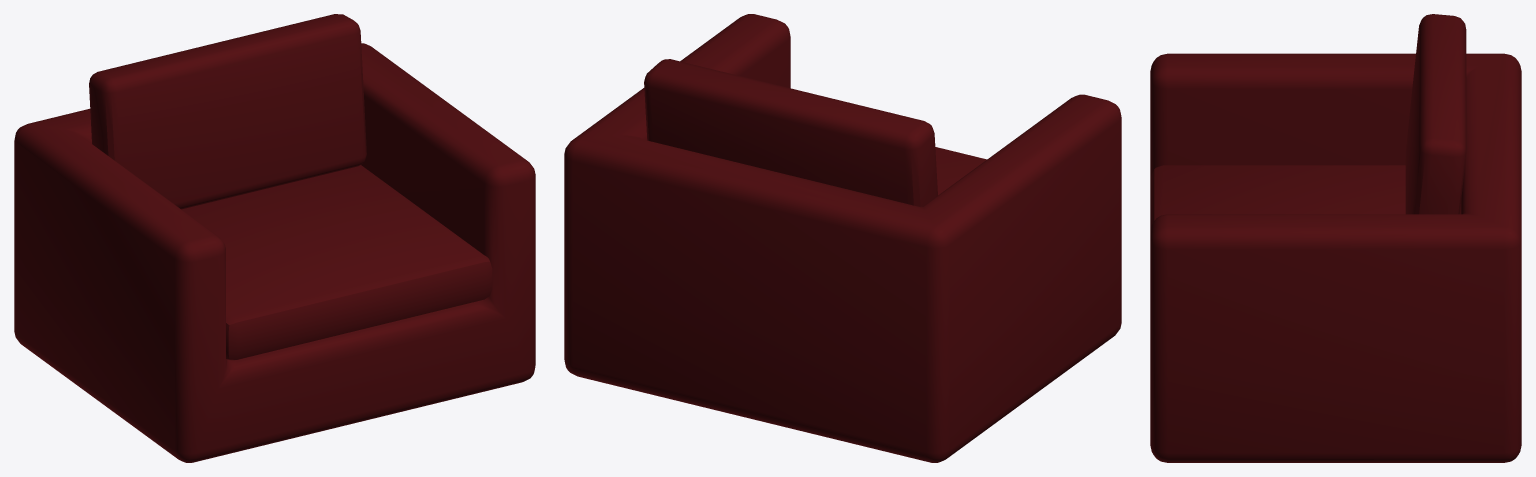
Rendered from SofaTamuSingle.fbx.
3 views of the same model, side by side, from view 1: azimuth 30°, elevation 25°; view 2: azimuth 150°, elevation 25°; view 3: azimuth 270°, elevation 25° (orthographic). The views are drawn at different scales.
Parts seen in each view (by area): view 1: SofaTamuSingle; view 2: SofaTamuSingle; view 3: SofaTamuSingle.
Part boxes in pixels (bbox=[...]): SofaTamuSingle: bbox=[14, 14, 535, 462]; SofaTamuSingle: bbox=[564, 14, 1121, 462]; SofaTamuSingle: bbox=[1150, 14, 1521, 462].
Size of the model in its own units: 102 by 76.45 by 86.
